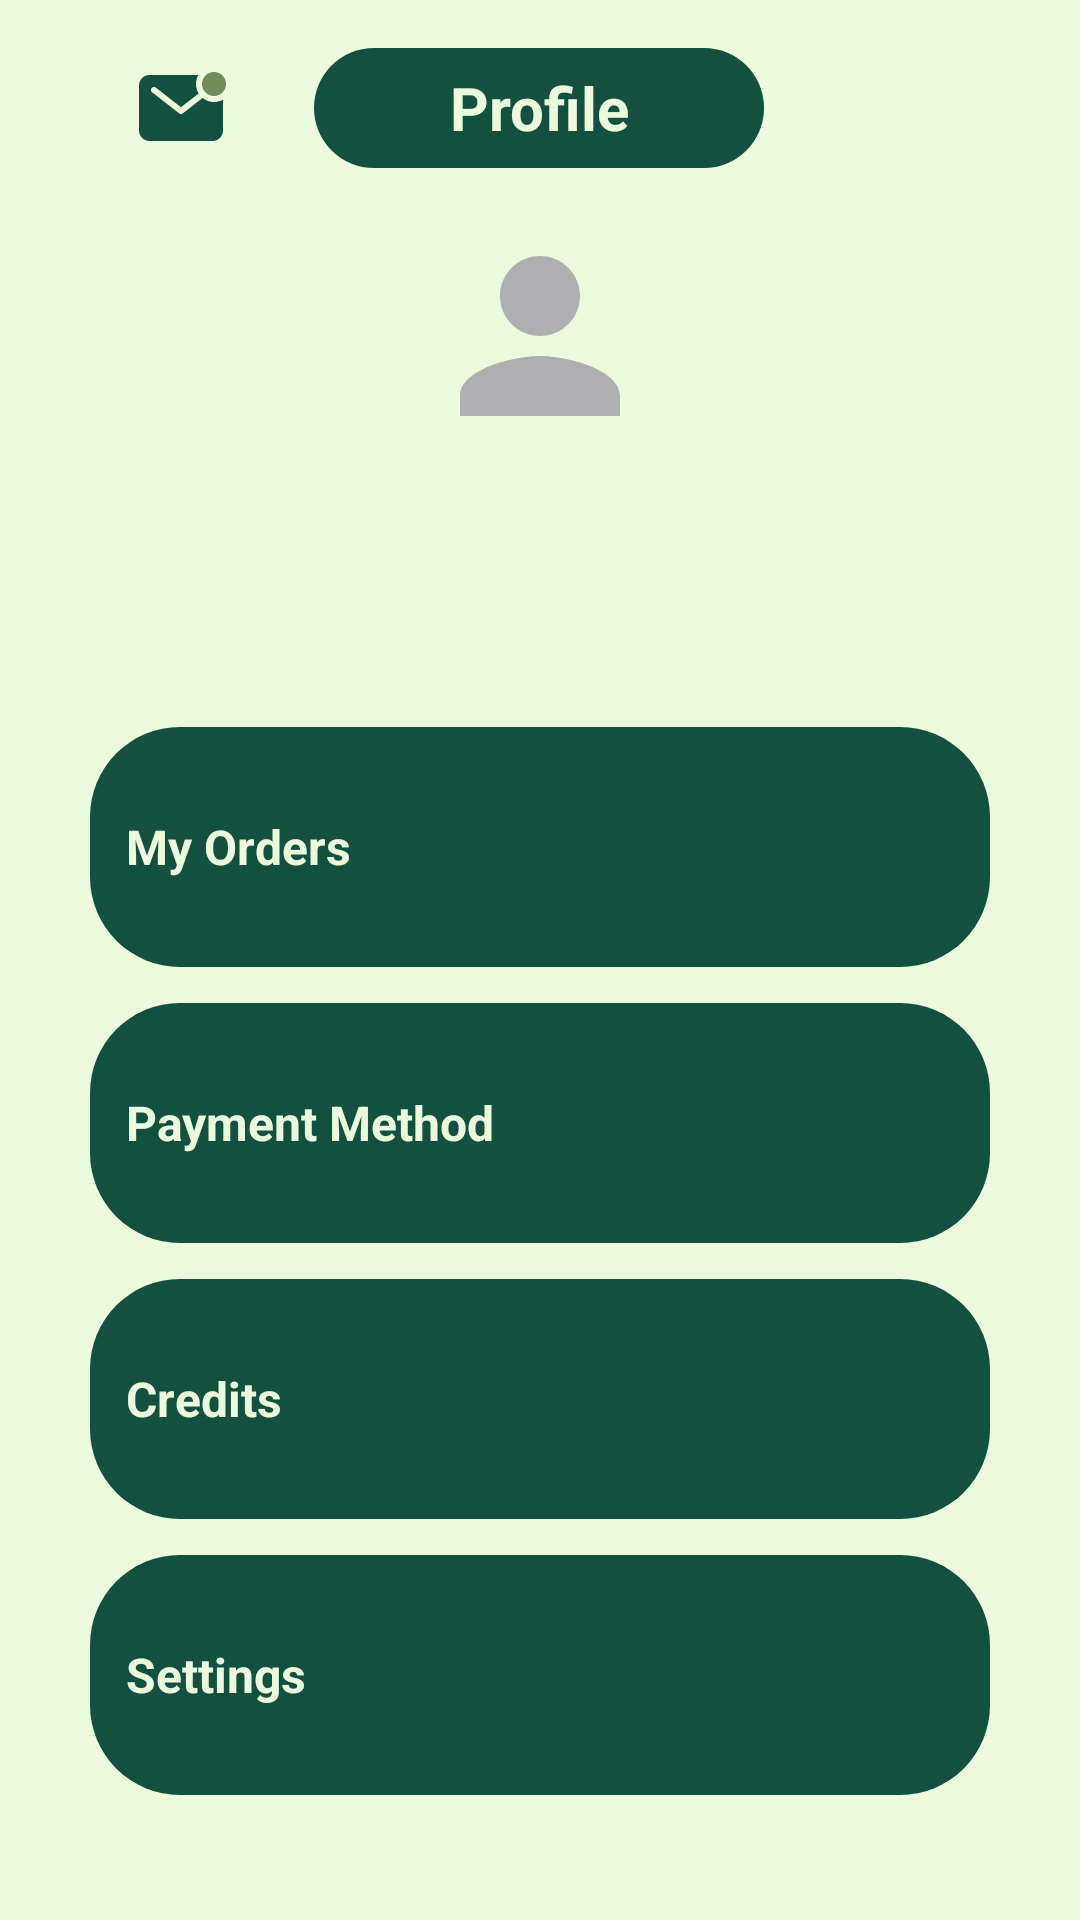

Named icons in this screenshot (1080 x 1920) and their bounding boxes, (x1, y1, x2, y2):
person: (460, 256, 620, 416)
